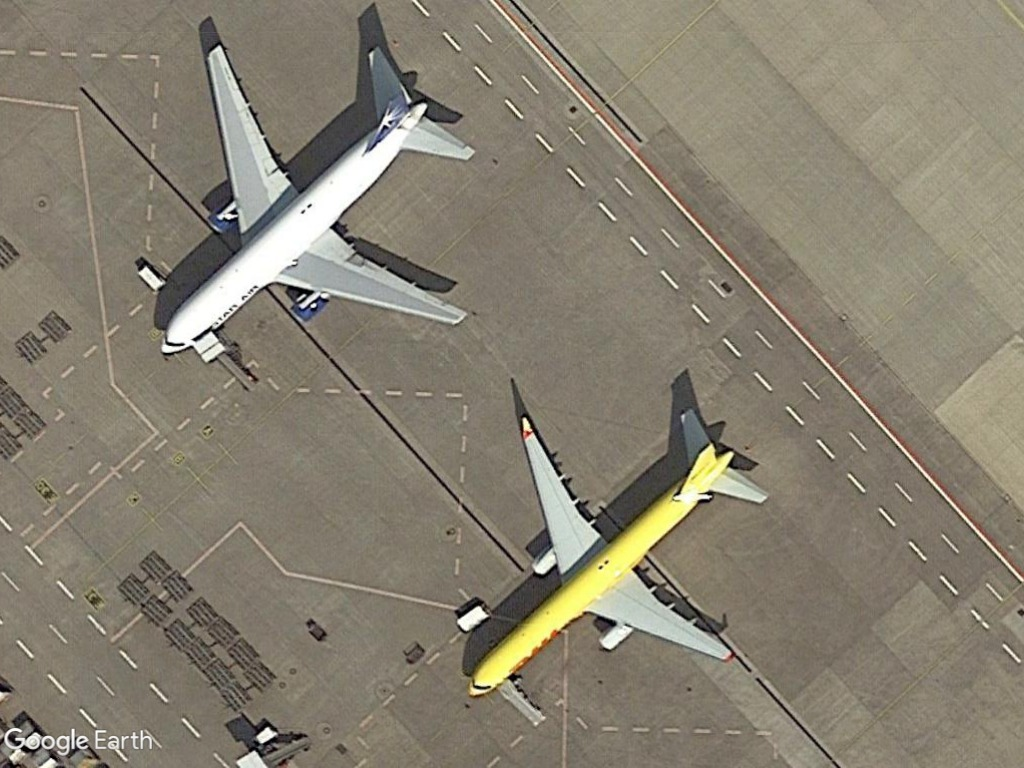airliner: (156, 43, 479, 364), (461, 405, 772, 703)
